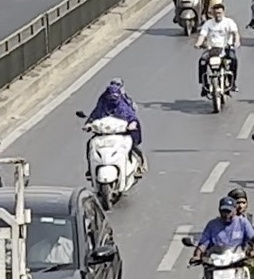BikeWithRider: (71, 74, 151, 212), (179, 185, 254, 279), (190, 1, 243, 116)
NoHelmet: (217, 196, 237, 225), (227, 188, 248, 214), (208, 1, 228, 21), (102, 85, 123, 104), (107, 75, 126, 92)
